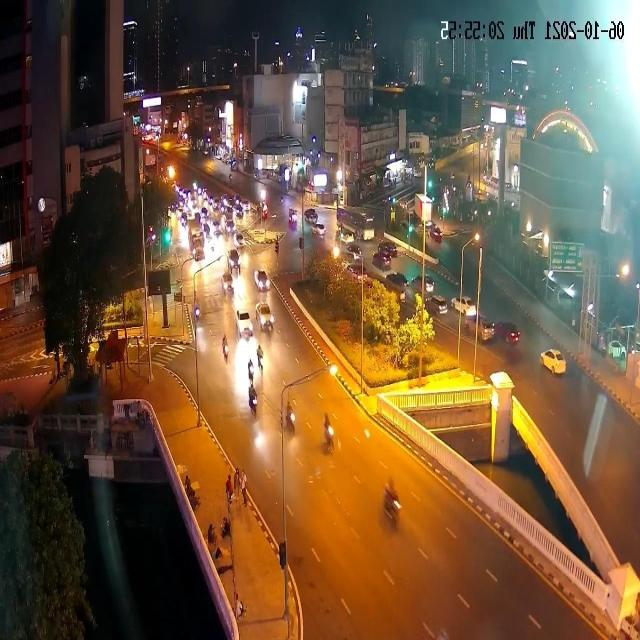Bus: (336, 204, 374, 241)
Car: (493, 316, 521, 348), (464, 315, 493, 344), (539, 347, 567, 377), (255, 300, 275, 336), (235, 308, 254, 340), (452, 294, 476, 318), (425, 295, 447, 318), (384, 271, 409, 289), (227, 249, 242, 278), (220, 271, 233, 304), (254, 269, 271, 294), (412, 274, 434, 292), (372, 250, 392, 269), (380, 240, 398, 257), (304, 207, 320, 223), (233, 230, 244, 251), (311, 223, 326, 237), (432, 226, 444, 241), (225, 220, 236, 236), (212, 220, 222, 236), (235, 205, 245, 217), (201, 207, 210, 219), (213, 200, 222, 210), (243, 201, 251, 211), (208, 195, 215, 205), (184, 190, 191, 198)
Cycle: (384, 477, 402, 524), (323, 412, 334, 454), (286, 400, 297, 437), (248, 379, 259, 416), (221, 333, 230, 364), (256, 343, 264, 375), (247, 358, 255, 385)
Truck: (186, 219, 206, 259)
